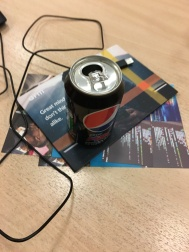can_black: (58, 53, 125, 151)
